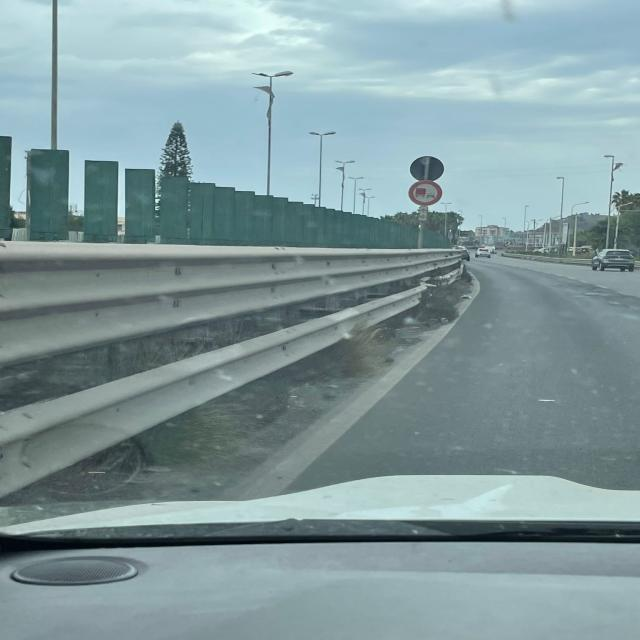forb_overtake_trucks: (408, 180, 442, 206)
